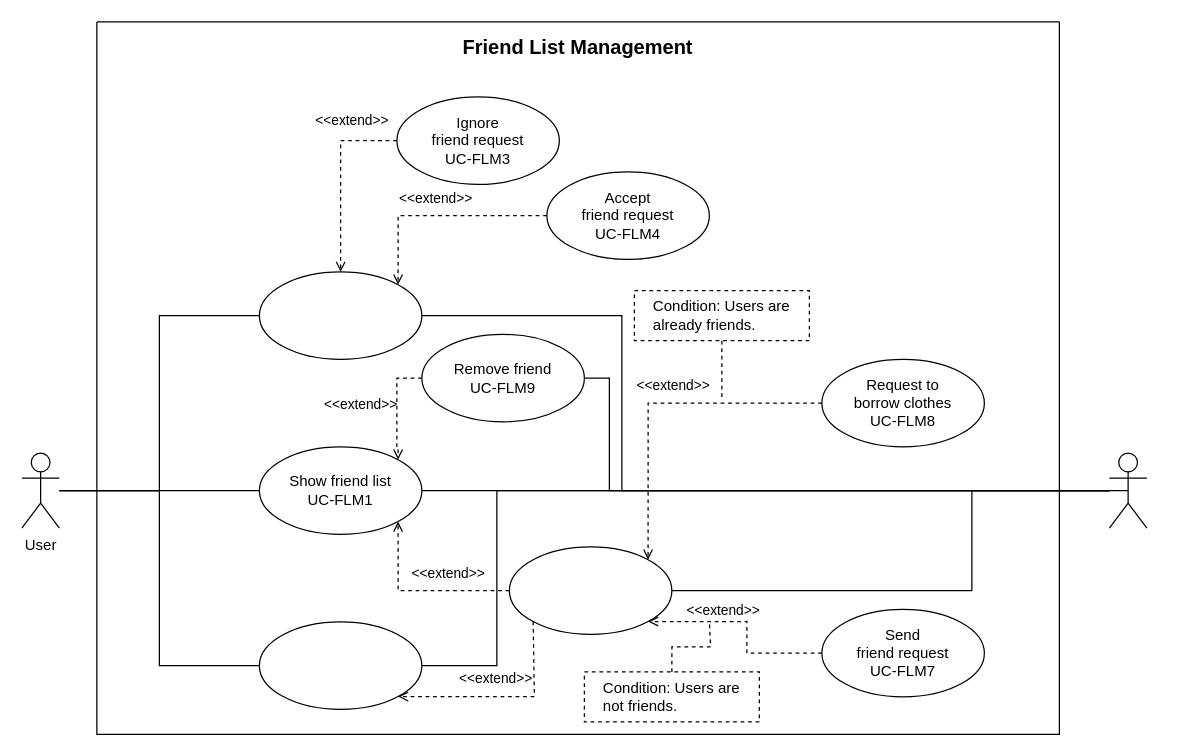
Image size: 1181x756. Some labels were removed from this diagram. The shapes that lost their labels are listed below. From the top down, each one's centre as x and y in pixels, then its label:
the point at 340,315: Show friend requests UC-FLM2
the point at 1127,490: Database
the point at 590,590: Show user profile UC-FLM6
the point at 340,665: Search users UC-FLM5
